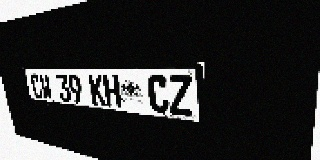3: (56, 74, 72, 102)
9: (67, 74, 84, 104)
C: (147, 75, 170, 114), (29, 74, 43, 99)
H: (102, 74, 122, 108)
K: (88, 74, 106, 106)
W: (38, 74, 53, 100)
Z: (168, 75, 193, 116)
